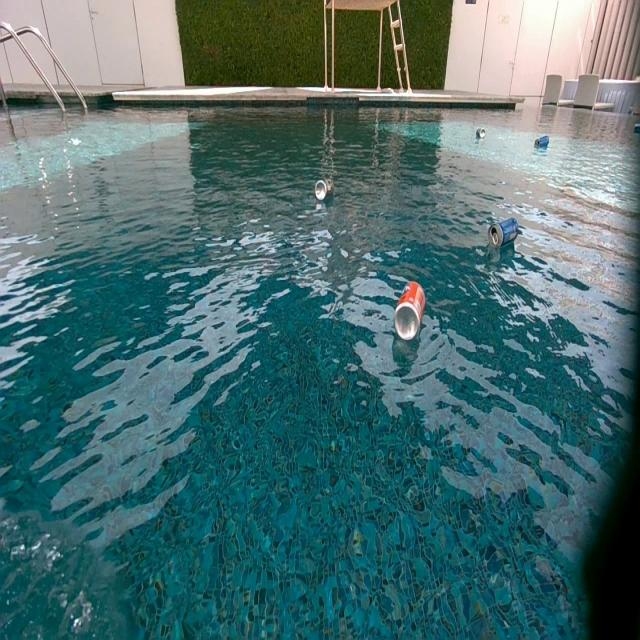Cans: (394, 282, 424, 343), (487, 218, 521, 250), (314, 179, 332, 200), (534, 136, 549, 149), (478, 128, 488, 140), (634, 122, 640, 134)
